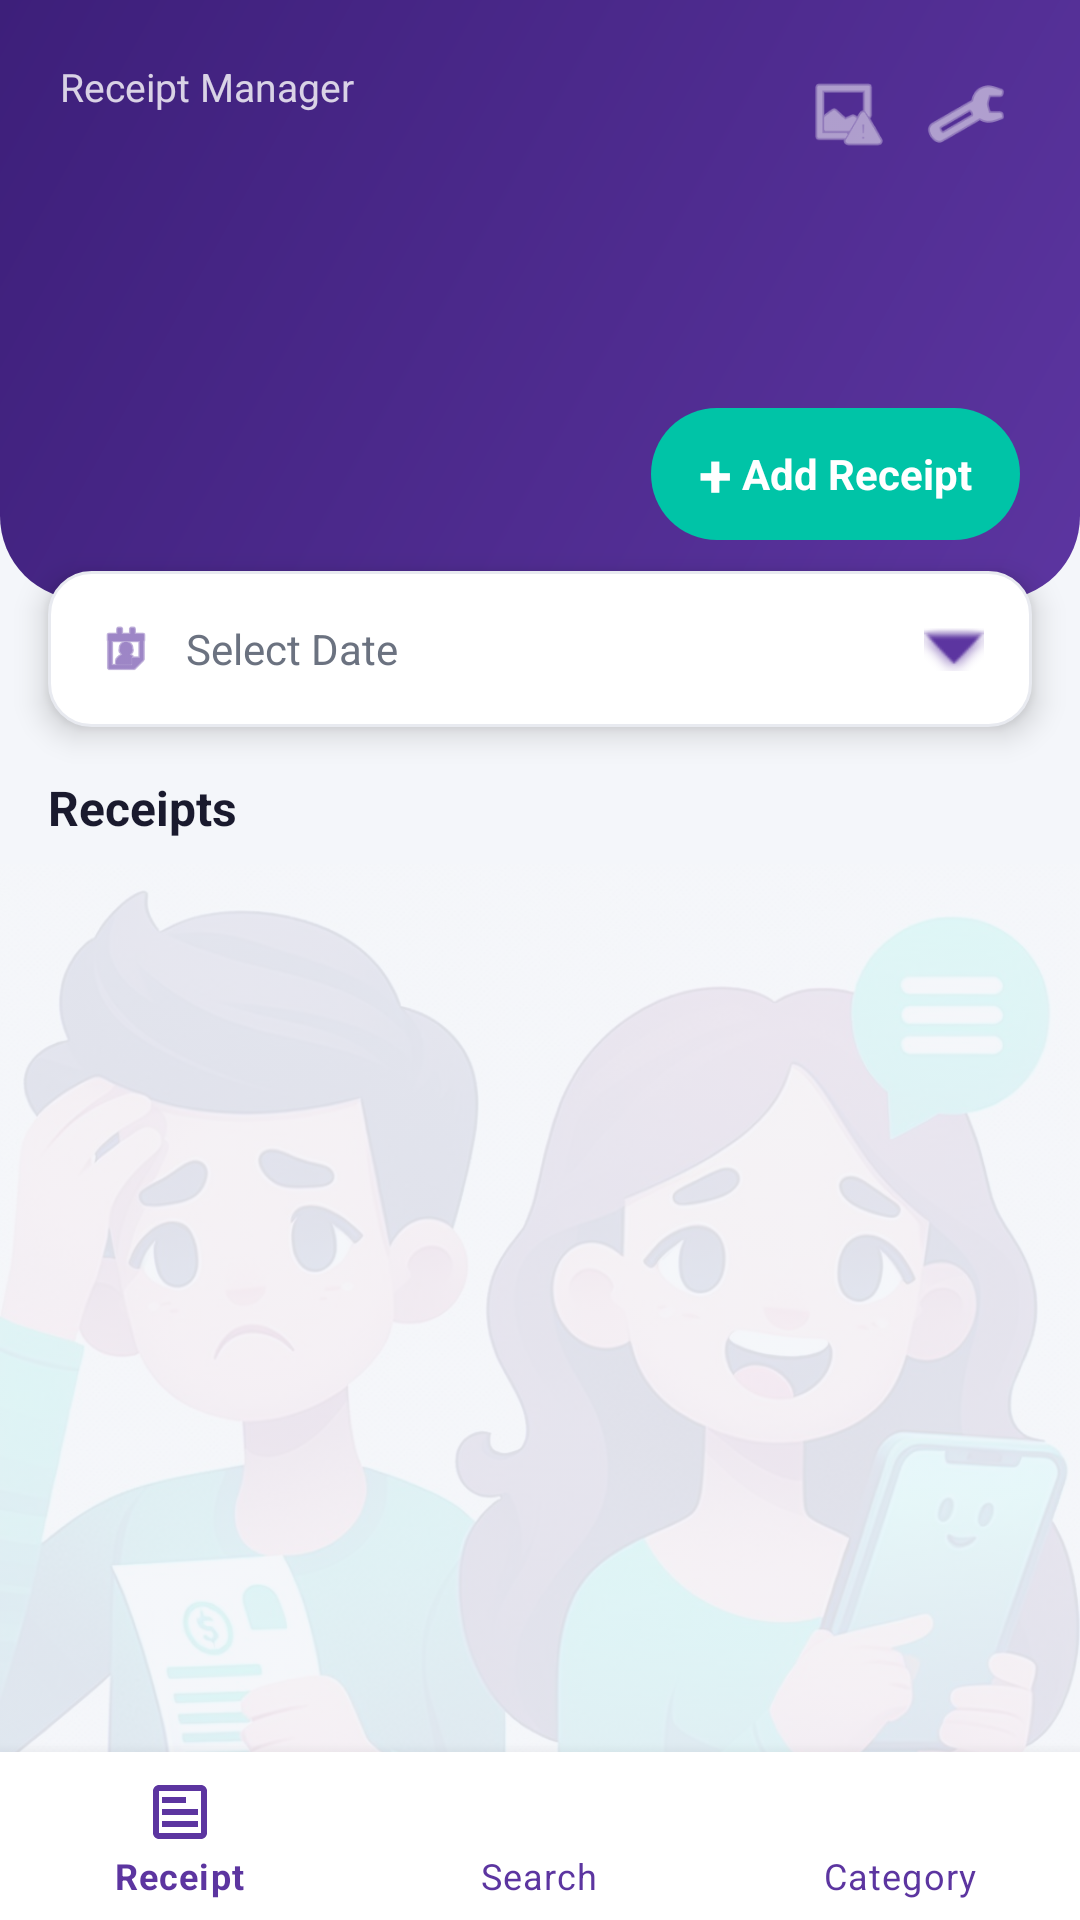

Point at icon controls on the screen. Image size 1080px×1920px, points as (x=x, y=y).
arrow down float: (x=954, y=649)
calendar: (x=126, y=648)
preferences: (x=966, y=114)
report: (x=849, y=115)
